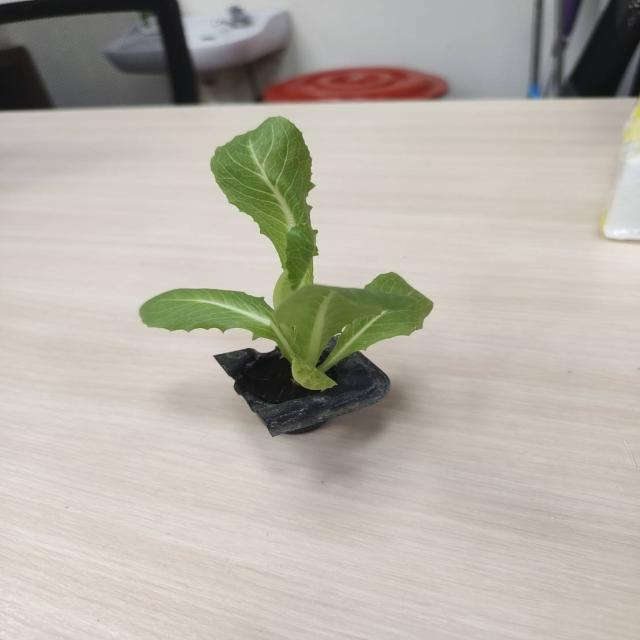Lettuce-Not-Ready-to-Harvest: (140, 116, 432, 390)
